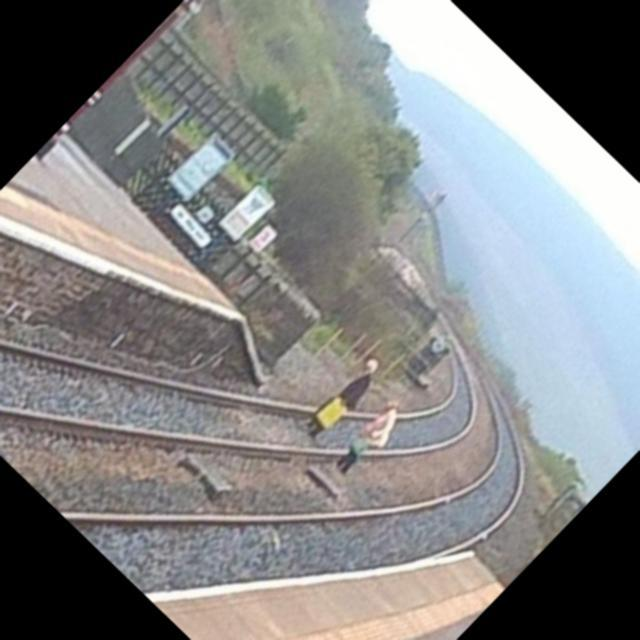person: (292, 338, 406, 452), (314, 382, 424, 492)
